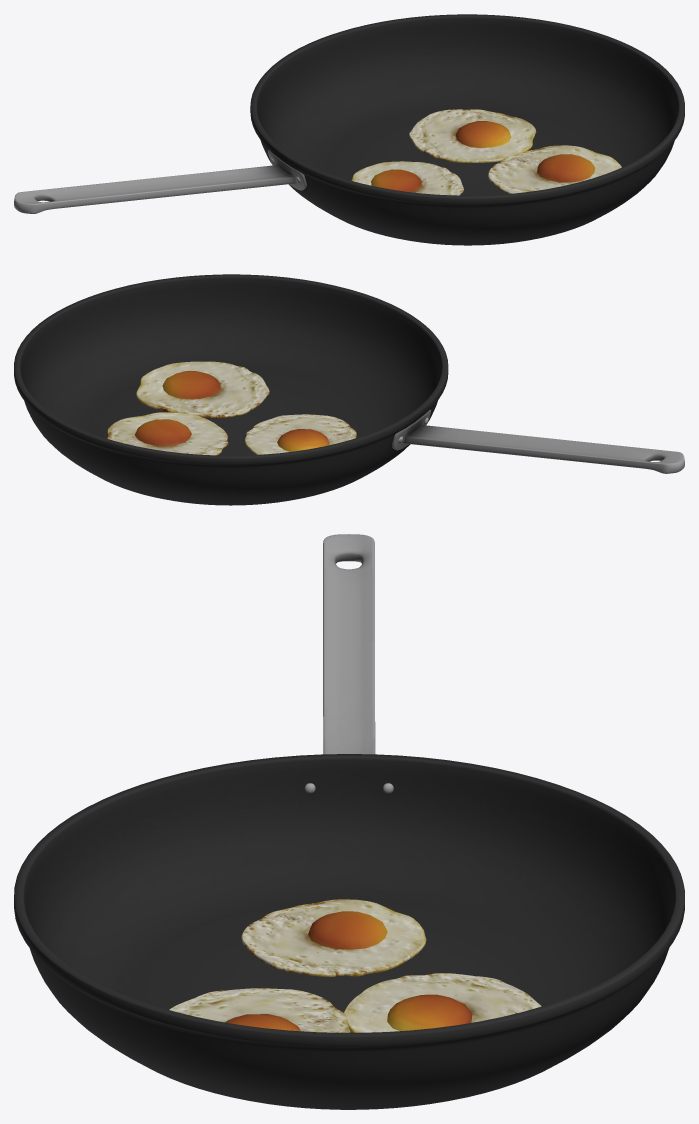
File: frying pan.fbx
The picture shows the model from 3 angles, top to bottom: view 1: azimuth 30°, elevation 25°; view 2: azimuth 150°, elevation 25°; view 3: azimuth 270°, elevation 25°; orthographic projection. The views are drawn at different scales.
Visible parts, largest first — view 1: frying pan, omlet; view 2: frying pan, omlet; view 3: frying pan, omlet.
Boxes of the visible parts, left/top/right/bottom form: frying pan: left=14, top=14, right=684, bottom=245; omlet: left=351, top=109, right=621, bottom=195; frying pan: left=14, top=274, right=684, bottom=505; omlet: left=107, top=361, right=356, bottom=455; frying pan: left=14, top=534, right=684, bottom=1109; omlet: left=169, top=899, right=541, bottom=1032.
Size of the model in its own units: 48.89 by 6.42 by 28.82.
Materials: 2 (2 with a texture image).
